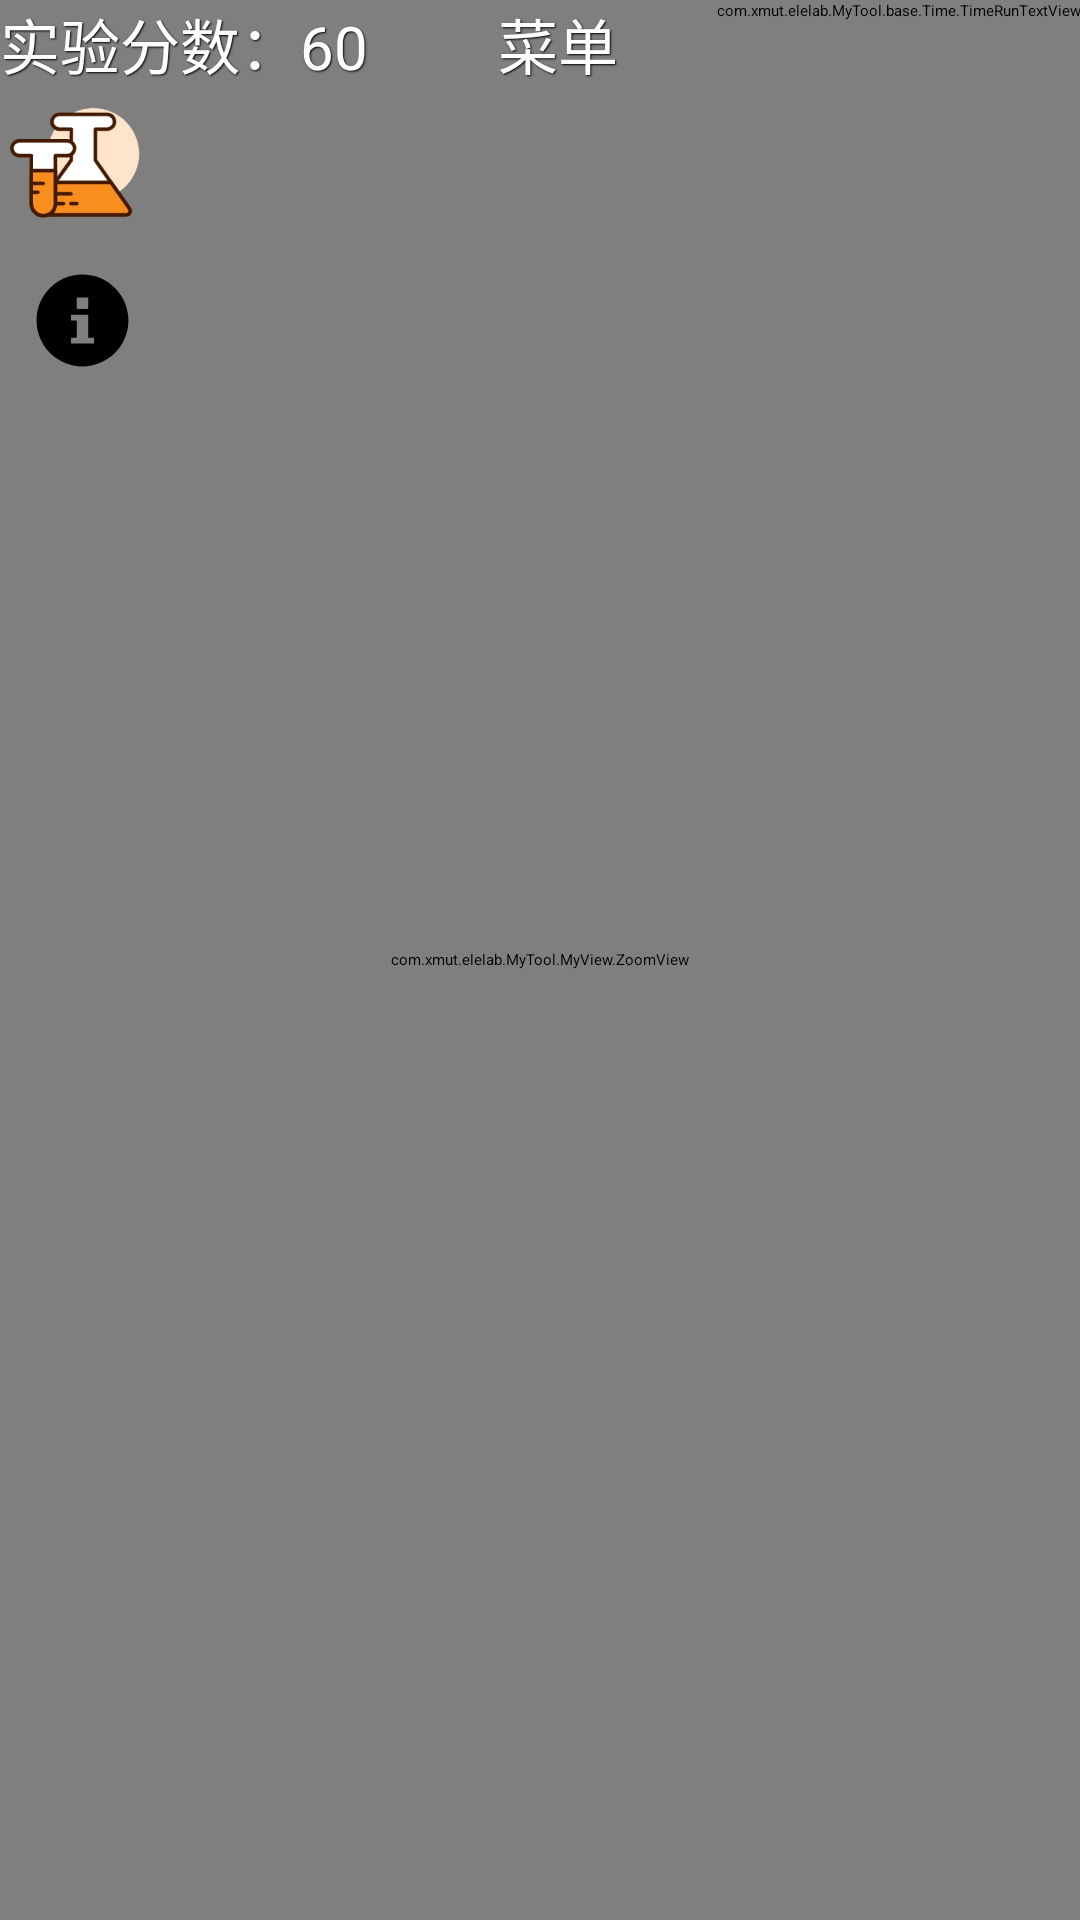

Icons on this 1080×1920 Android screen, each with the point to tap as (x,y):
experiment equipment: (75,163)
tip: (82,320)
